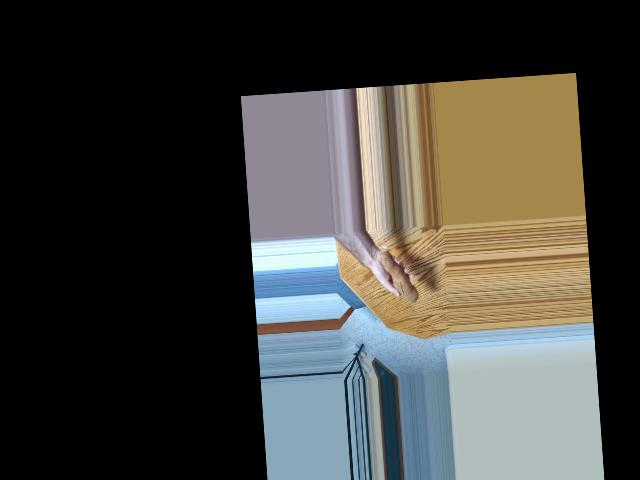sweet_potato: (375, 243, 419, 307)
